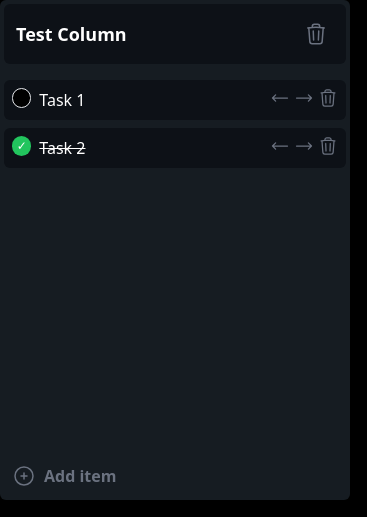
Test: ColumnContainer › when editing the column title › cancel the edit mode when the input loses focus with tab
Step 1. Click the text "Test Column" → (71, 34), box x1=16 y1=22 x2=127 y2=46
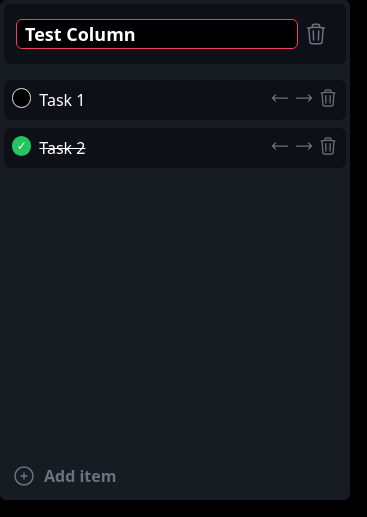
Now the field named "Edit column title" is shown
Step 2. Type "canceled blur" into the field named "Edit column title" → (157, 34), box x1=16 y1=19 x2=298 y2=49
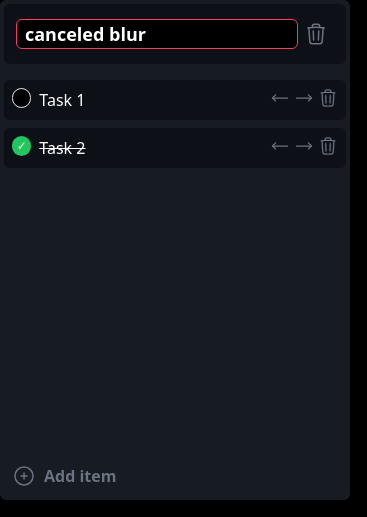
Step 3. Press Tab
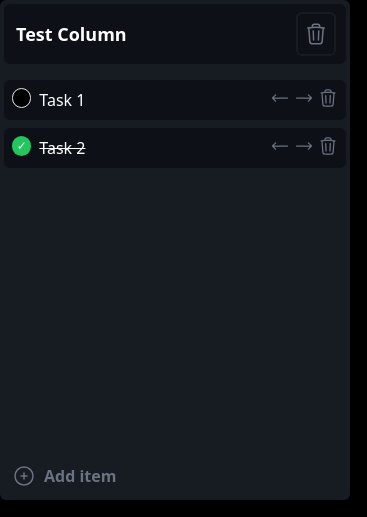
Expected: the text "canceled blur" is not shown
Now the text "Test Column" is shown, box x1=16 y1=22 x2=127 y2=46
